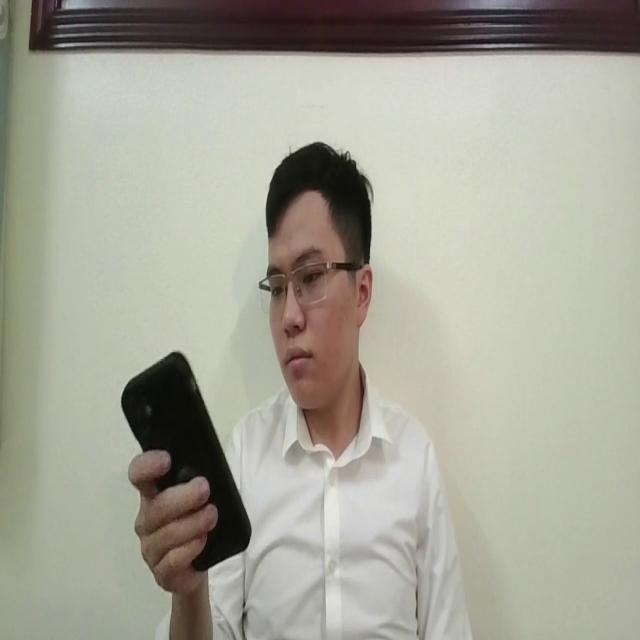phone: (119, 346, 254, 581)
student: (117, 132, 472, 640)
